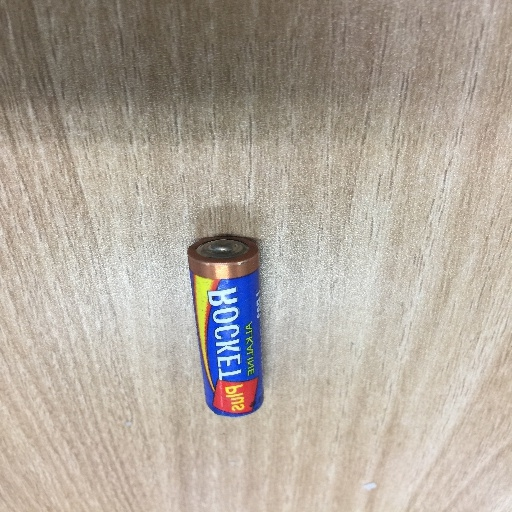Battery_0: (178, 217, 285, 431)
